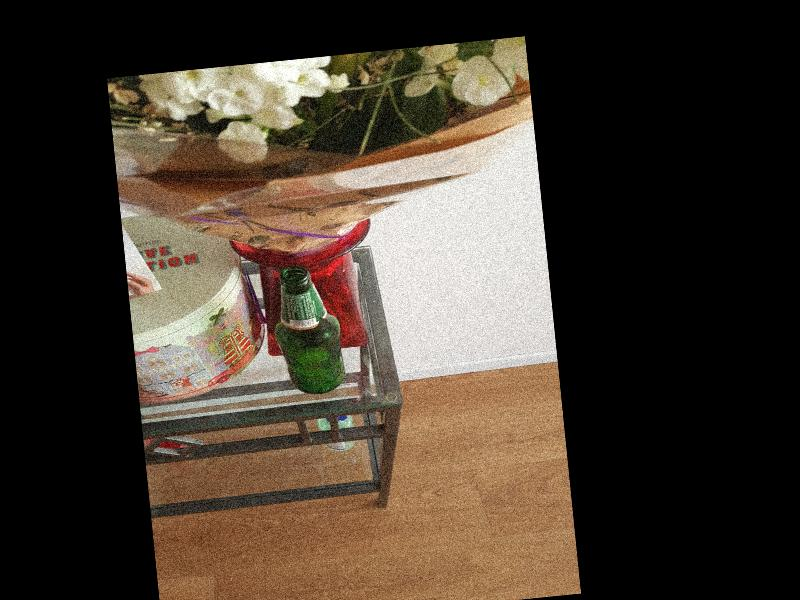Beer: (268, 263, 347, 398)
